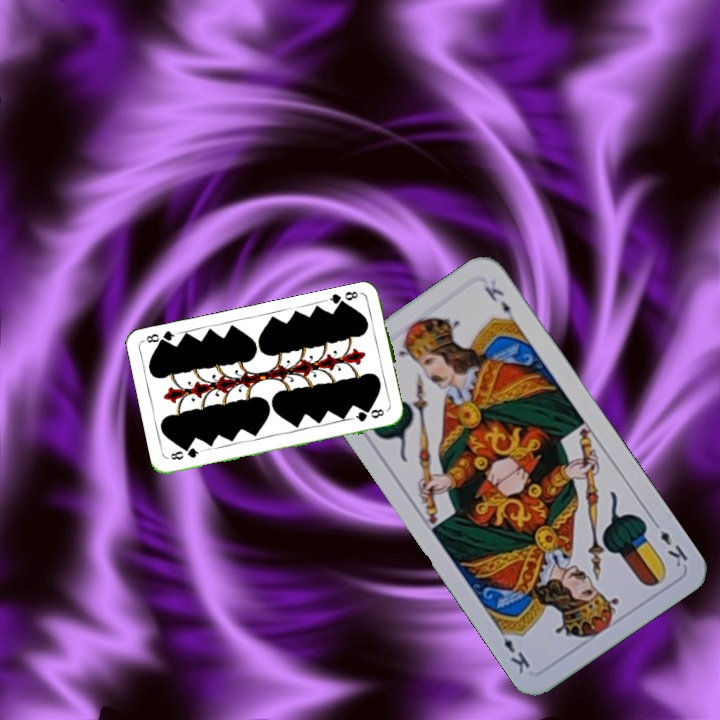EK: (648, 515, 691, 570)
G8: (326, 287, 364, 310), (166, 444, 205, 463)
